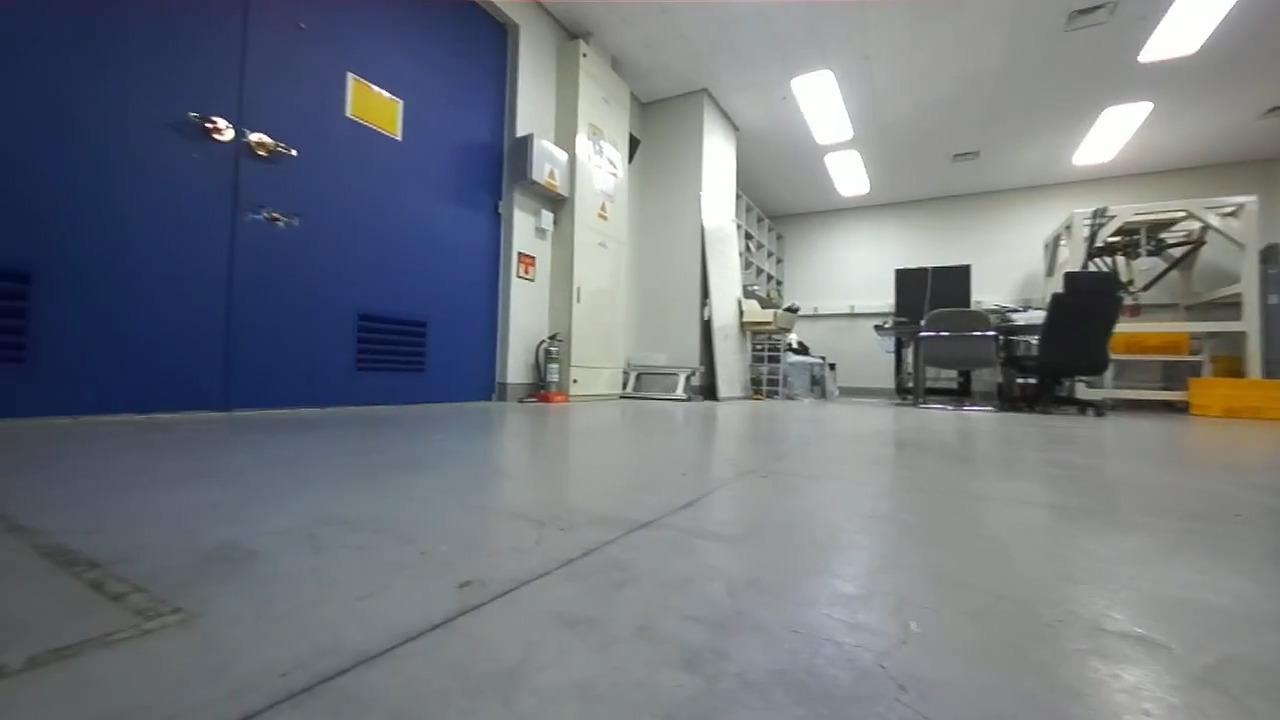crazyflie: (240, 199, 307, 235)
